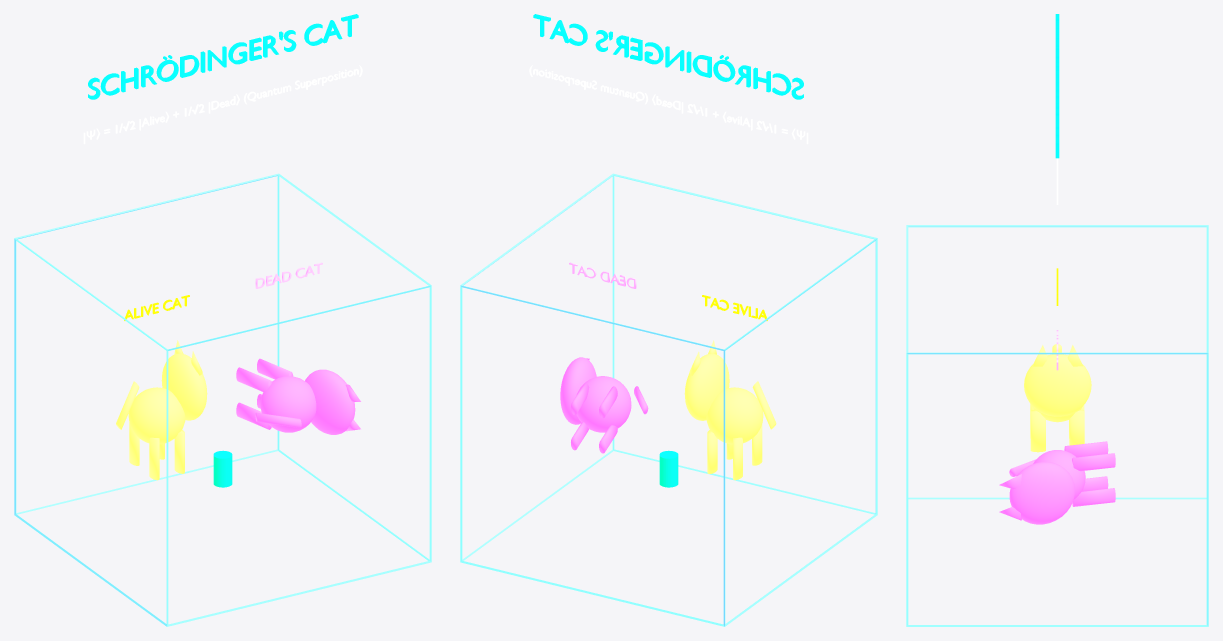
File: schrondiger_cat.glb
3 views of the same model, side by side, from view 1: azimuth 30°, elevation 25°; view 2: azimuth 150°, elevation 25°; view 3: azimuth 270°, elevation 25° (orthographic).
Parts seen in each view (by area): view 1: Cube, Dead_Cat_Mesh, Alive_Cat_Mesh, Text, Text.001, Cylinder; view 2: Cube, Alive_Cat_Mesh, Dead_Cat_Mesh, Text, Text.001, Cylinder; view 3: Dead_Cat_Mesh, Cube, Alive_Cat_Mesh, Text.
Boxes of the visible parts, box(x1,y1,x2,y2) form: Cube: box(14, 173, 431, 626); Dead_Cat_Mesh: box(236, 358, 360, 434); Alive_Cat_Mesh: box(116, 340, 207, 480); Text: box(88, 14, 358, 99); Text.001: box(83, 65, 362, 144); Cylinder: box(213, 450, 232, 487); Cube: box(460, 173, 877, 626); Alive_Cat_Mesh: box(684, 340, 776, 480); Dead_Cat_Mesh: box(560, 357, 648, 453); Text: box(533, 14, 803, 99); Text.001: box(529, 65, 808, 144); Cylinder: box(659, 450, 678, 487); Dead_Cat_Mesh: box(999, 441, 1115, 524); Cube: box(906, 225, 1208, 626); Alive_Cat_Mesh: box(1024, 344, 1091, 452); Text: box(1055, 14, 1059, 158).
Size of the model in its own units: 5.07 by 8.64 by 4.82.
